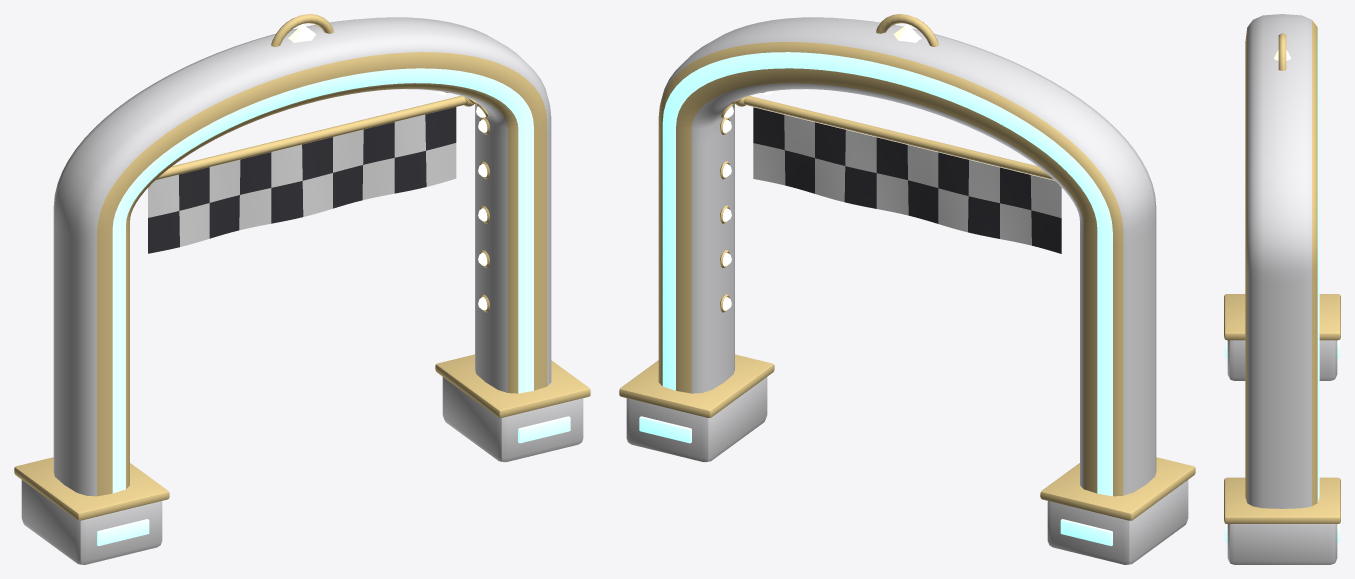
File: goal_arch.glb
The picture shows the model from 3 angles, left to right: view 1: azimuth 30°, elevation 25°; view 2: azimuth 150°, elevation 25°; view 3: azimuth 270°, elevation 25°; orthographic projection. The views are drawn at different scales.
Parts seen in each view (by area): view 1: goal_arch, banner; view 2: goal_arch, banner; view 3: goal_arch.
Part boxes in pixels (x1=…): goal_arch: x1=14, y1=14, x2=590, y2=564; banner: x1=148, y1=96, x2=473, y2=253; goal_arch: x1=619, y1=14, x2=1195, y2=564; banner: x1=736, y1=96, x2=1061, y2=253; goal_arch: x1=1224, y1=14, x2=1340, y2=564.
Size of the model in its own units: 3 by 2.62 by 0.66.
